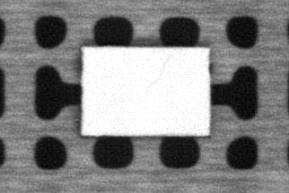DIE_CRACK: (146, 54, 173, 89)
